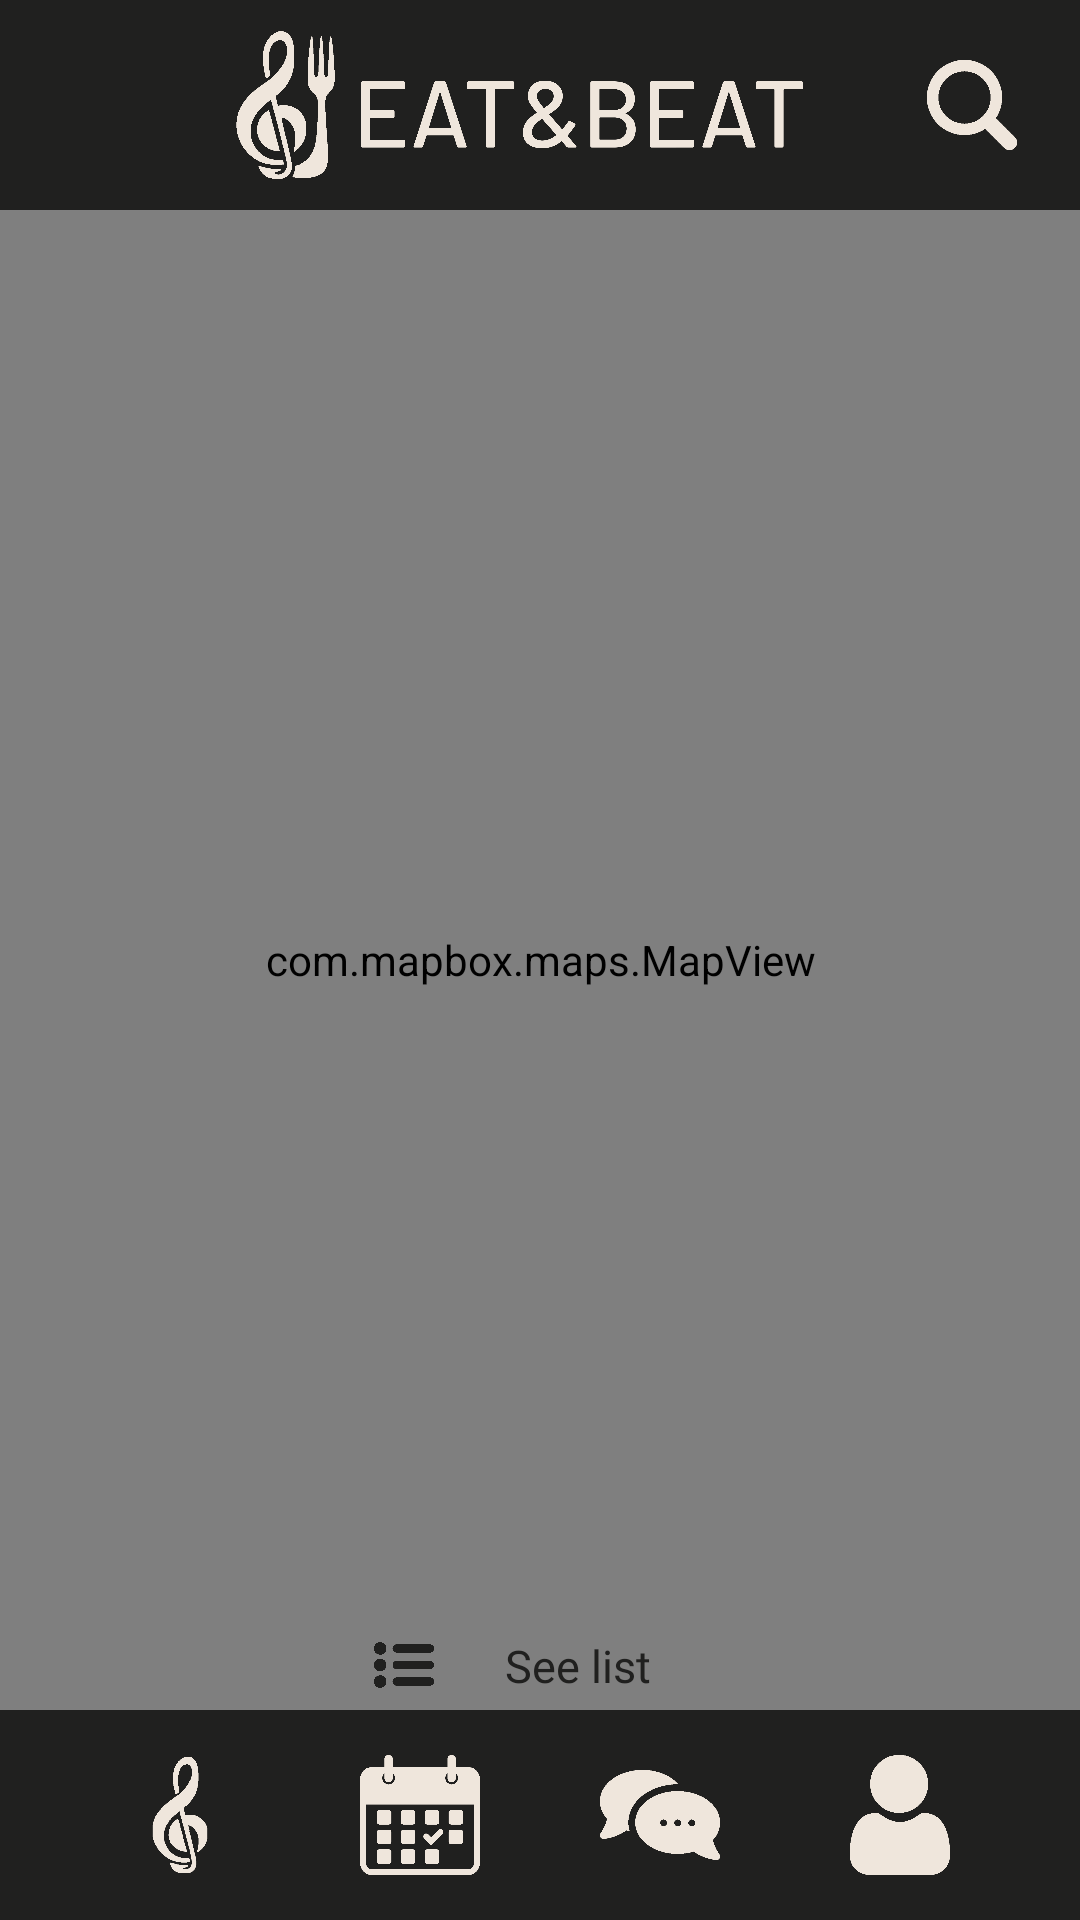

Named icons in this screenshot (1080 x 1920) and their bounding boxes, (left=x1, top=y1, right=x2, bottom=y2):
chat: (left=600, top=1770, right=720, bottom=1860)
musician: (left=152, top=1757, right=208, bottom=1873)
search: (left=927, top=60, right=1017, bottom=150)
user: (left=850, top=1755, right=950, bottom=1875)
